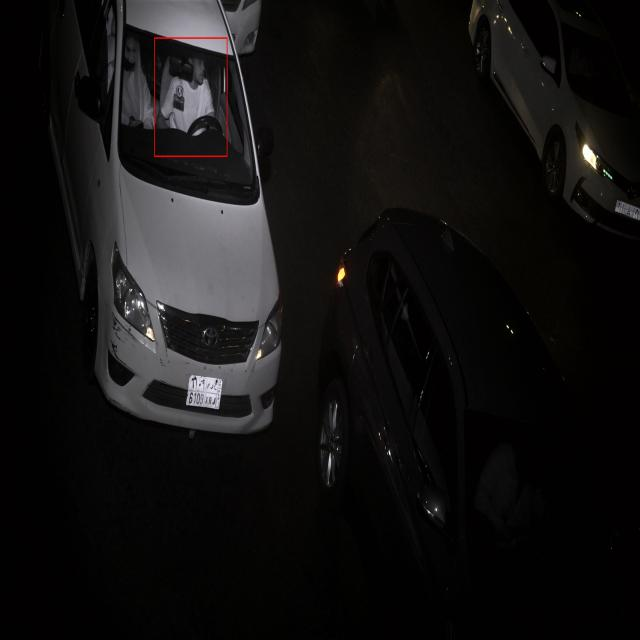windshield: (118, 18, 262, 206)
